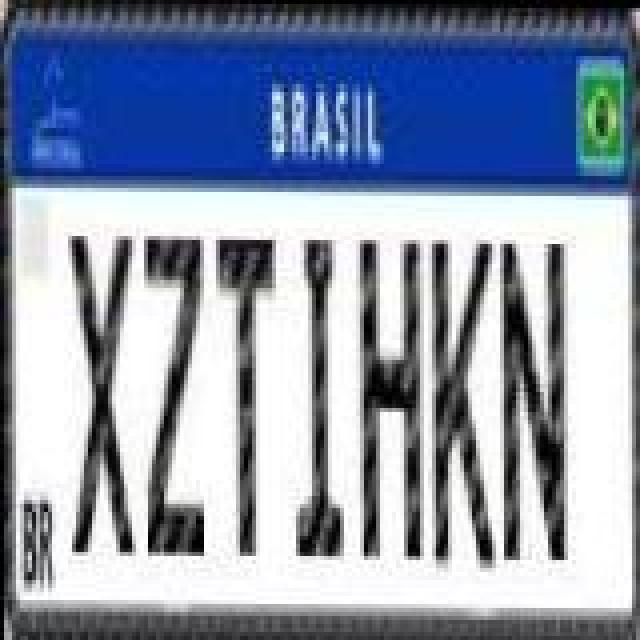H: (358, 234, 422, 558)
I: (294, 228, 342, 564)
K: (428, 230, 496, 566)
N: (496, 236, 564, 560)
T: (216, 232, 276, 556)
X: (68, 232, 136, 556)
Z: (144, 232, 204, 556)
